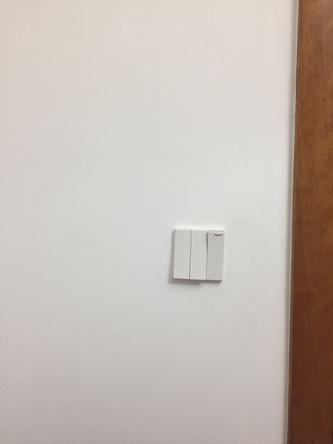switch: (205, 226, 228, 288), (171, 225, 193, 283), (187, 226, 209, 284)
